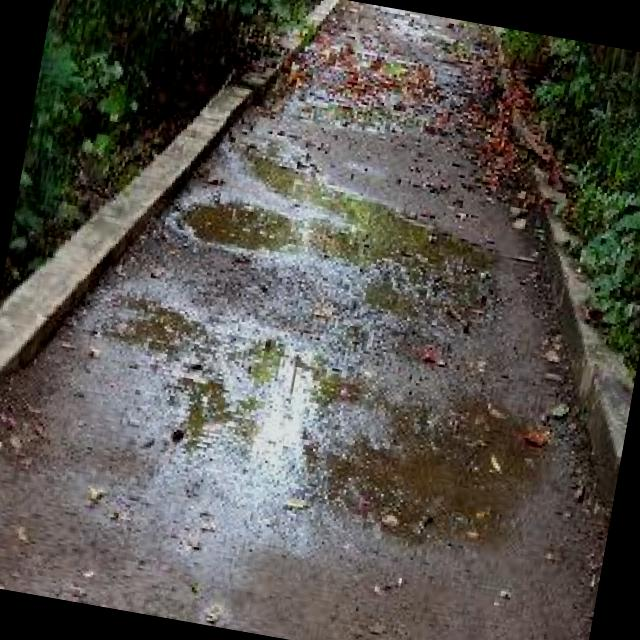stagnation: (191, 183, 315, 270)
